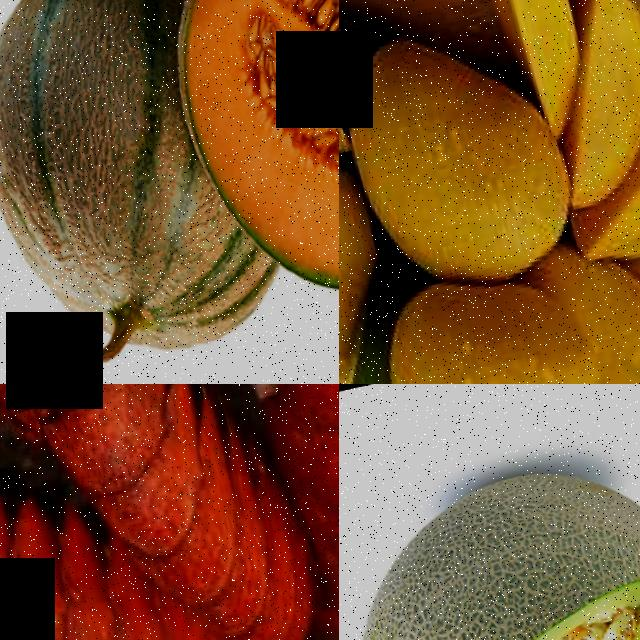lobster tails: (0, 384, 272, 588), (217, 384, 339, 640), (0, 384, 115, 640)
mango: (339, 22, 564, 309), (361, 267, 610, 384)
melon: (0, 0, 248, 384), (339, 434, 640, 640), (159, 0, 339, 322)
